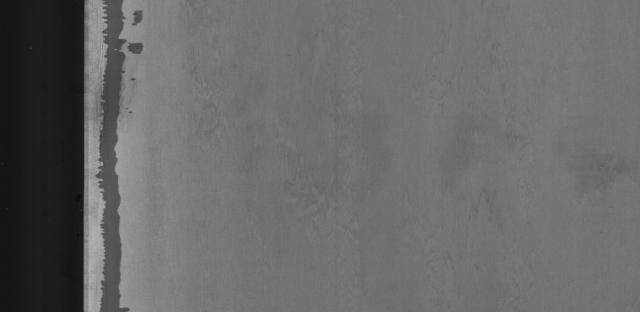oil_spot: (91, 0, 160, 310)
